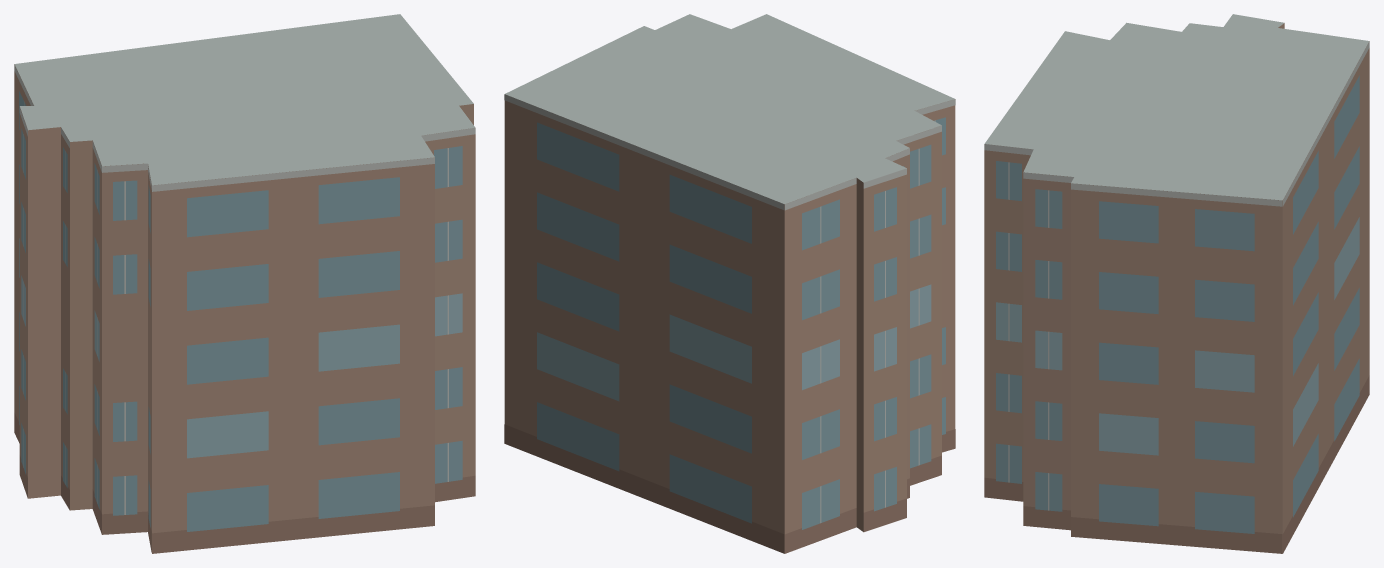
File: survey-upis-33045282.glb
The picture shows the model from 3 angles, left to right: view 1: azimuth 30°, elevation 25°; view 2: azimuth 150°, elevation 25°; view 3: azimuth 270°, elevation 25°; orthographic projection. The views are drawn at different scales.
Visible parts, largest first — view 1: survey-upis-33045282.tmp; view 2: survey-upis-33045282.tmp; view 3: survey-upis-33045282.tmp.
Boxes of the visible parts, bbox=[...] form: survey-upis-33045282.tmp: bbox=[14, 14, 475, 553]; survey-upis-33045282.tmp: bbox=[504, 14, 955, 553]; survey-upis-33045282.tmp: bbox=[984, 14, 1369, 553].
Size of the model in its own units: 15.51 by 13.7 by 13.54.
